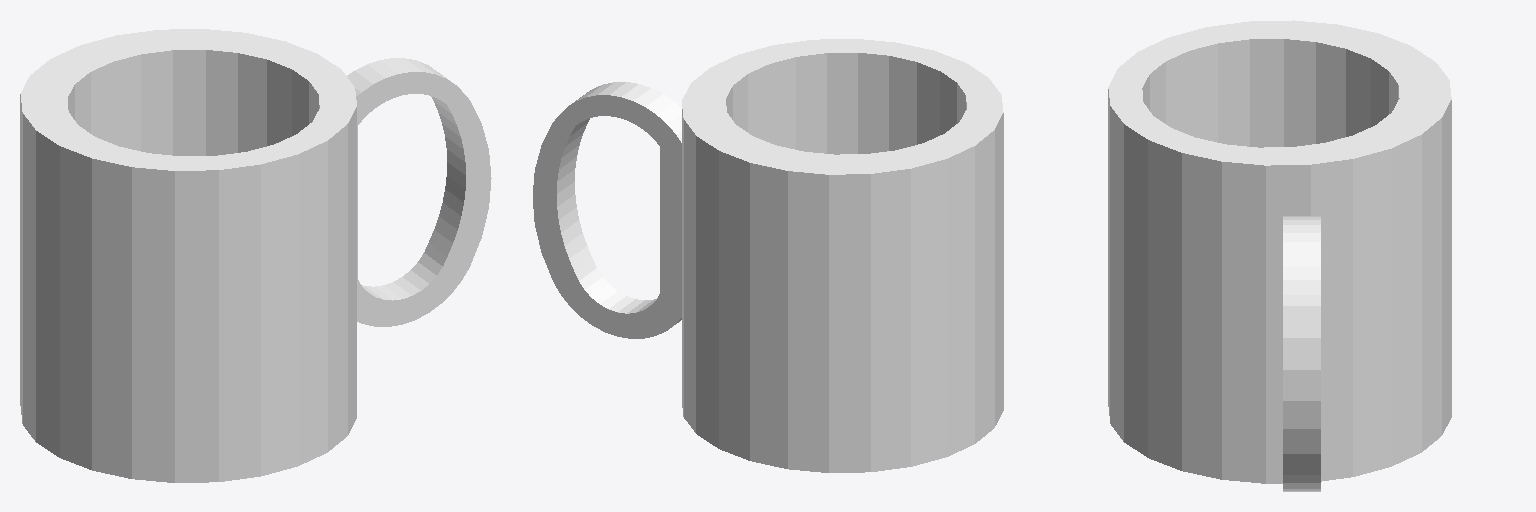
robot.urdf — cup_0003.urdf:
<?xml version="1.0" ?>
<robot name="cup_0003.urdf">
  <link name="baseLink">
    <contact>
      <lateral_friction value="1.0"/>
      <inertia_scaling value="1.0"/>
    </contact>
    <inertial>
      <origin rpy="0 0 0" xyz="0.000000 0.000000 0.000000"/>
      <mass value="0.000000"/>
      <inertia ixx="0.000000" ixy="0.000000" ixz="0.000000" iyy="0.000000" iyz="0.000000" izz="0.000000"/>
    </inertial>
    <visual>
      <origin rpy="0 0 0" xyz="0 0 0"/>
      <geometry>
       <mesh filename="cup_0003.obj" scale="1 1 1"/>
      </geometry>
       <material name="white">
        <color rgba="1 1 1 1"/>
      </material>
    </visual>
    <collision>
      <origin rpy="0 0 0" xyz="0 0 0"/>
      <geometry>
        <mesh filename="cup_0003_vhacd.obj" scale="1 1 1"/>
      </geometry>
    </collision>
  </link>
</robot>

--- Facts derived from the render (not from the file) ---
The picture shows the robot from 3 angles, left to right: view 1: azimuth 30°, elevation 25°; view 2: azimuth 150°, elevation 25°; view 3: azimuth 270°, elevation 25°; orthographic projection.
Model cup_0003.urdf with 1 links and 0 joints (none), rooted at baseLink, posed all joints at 0.
Visible links, largest first — view 1: baseLink; view 2: baseLink; view 3: baseLink.
Boxes of the visible links, x1,y1,x2,y2 form: baseLink: [20, 29, 491, 482]; baseLink: [533, 39, 1003, 472]; baseLink: [1108, 20, 1451, 491].
Size in the robot's own frame: 0.15 by 0.0972 by 0.0994 metres.
1 mesh visuals loaded from 1 distinct referenced files (1 OBJ).